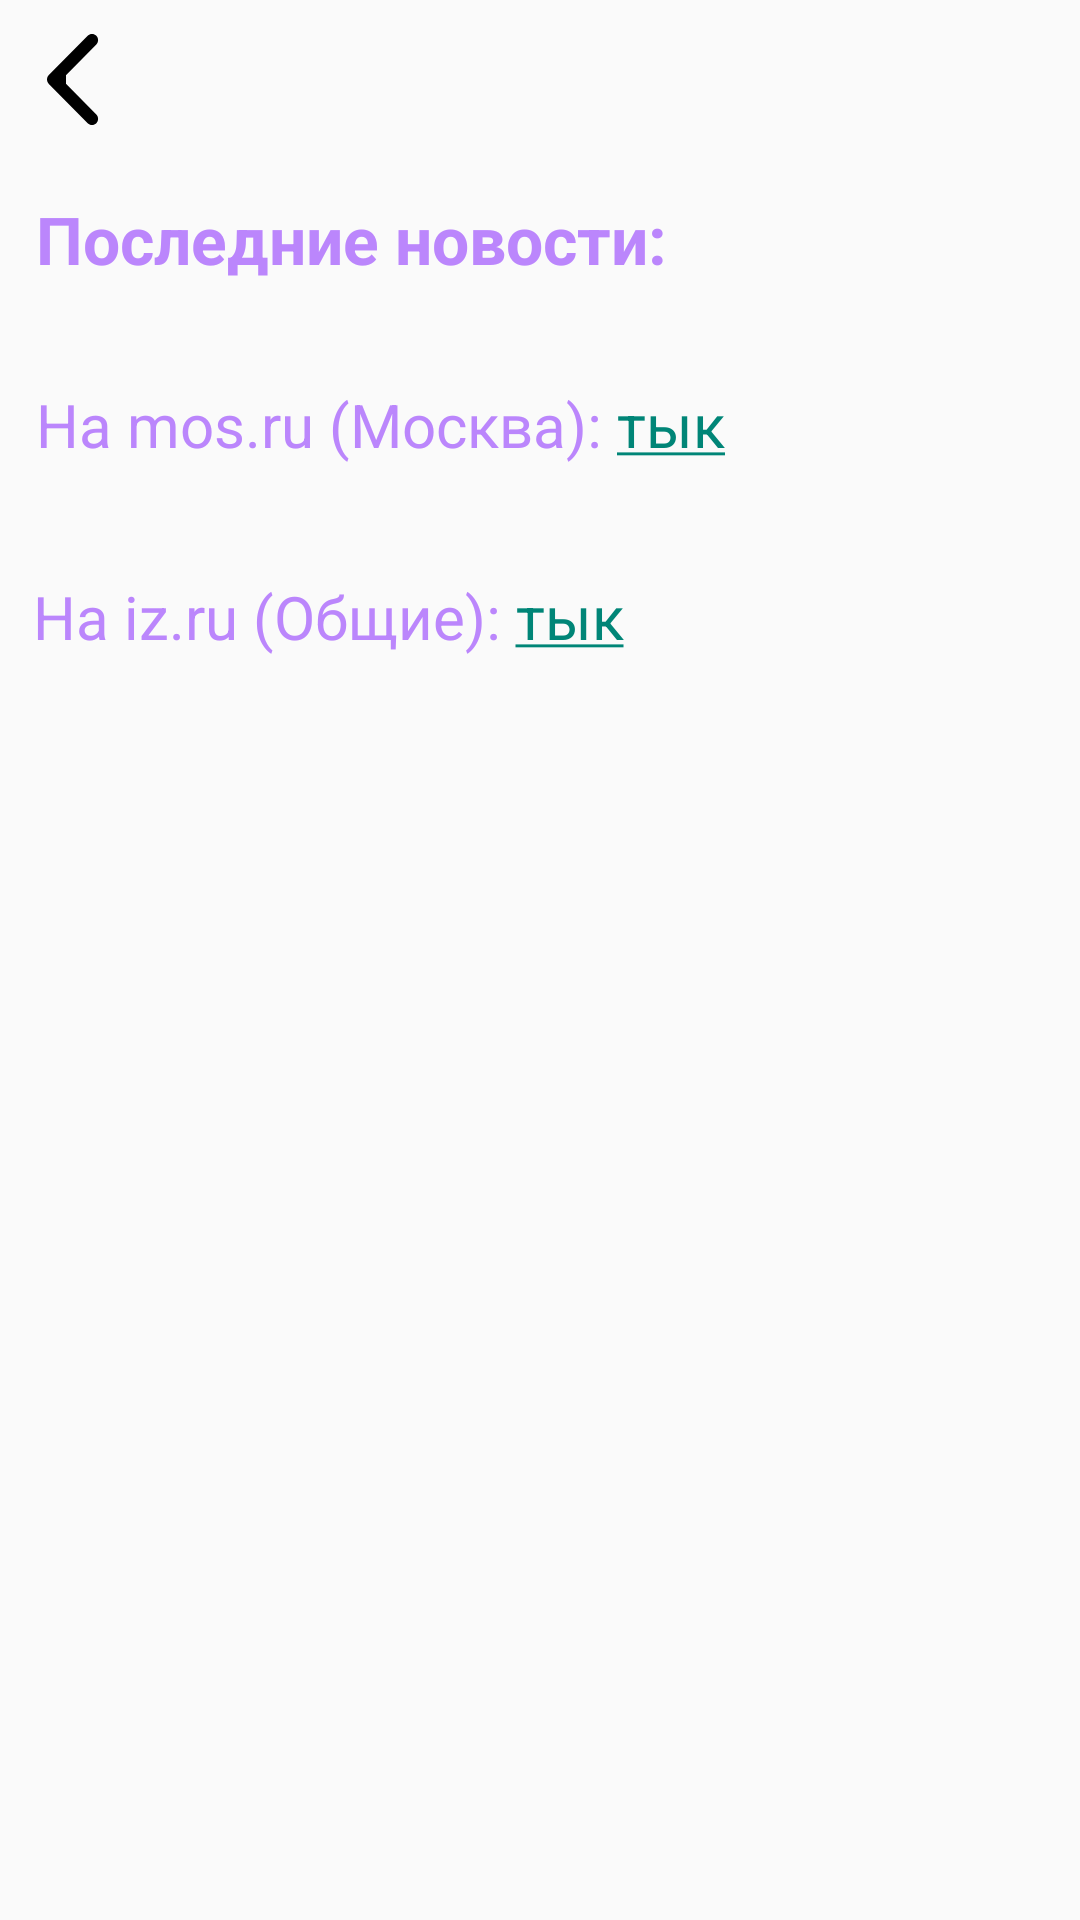

Screen size 1080x1920. Icon name, then its center in pixels as [x,y]:
arrow: [72,79]
